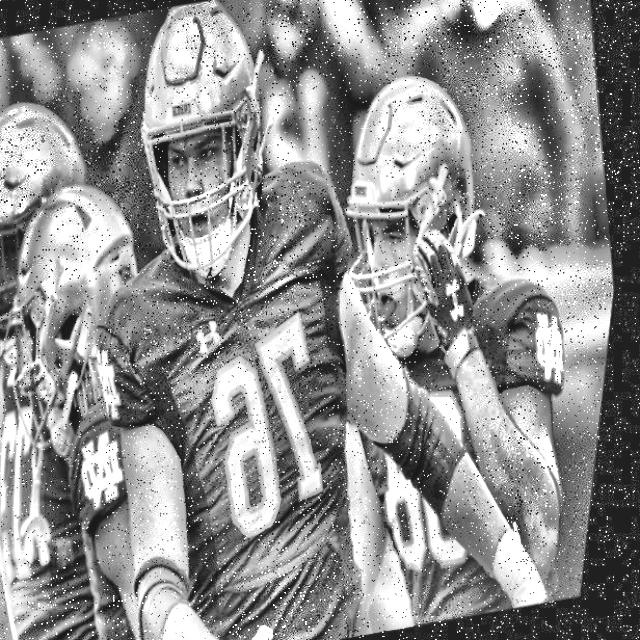Helmet: (309, 55, 526, 372), (107, 0, 321, 293), (0, 166, 187, 458), (0, 86, 134, 377)
